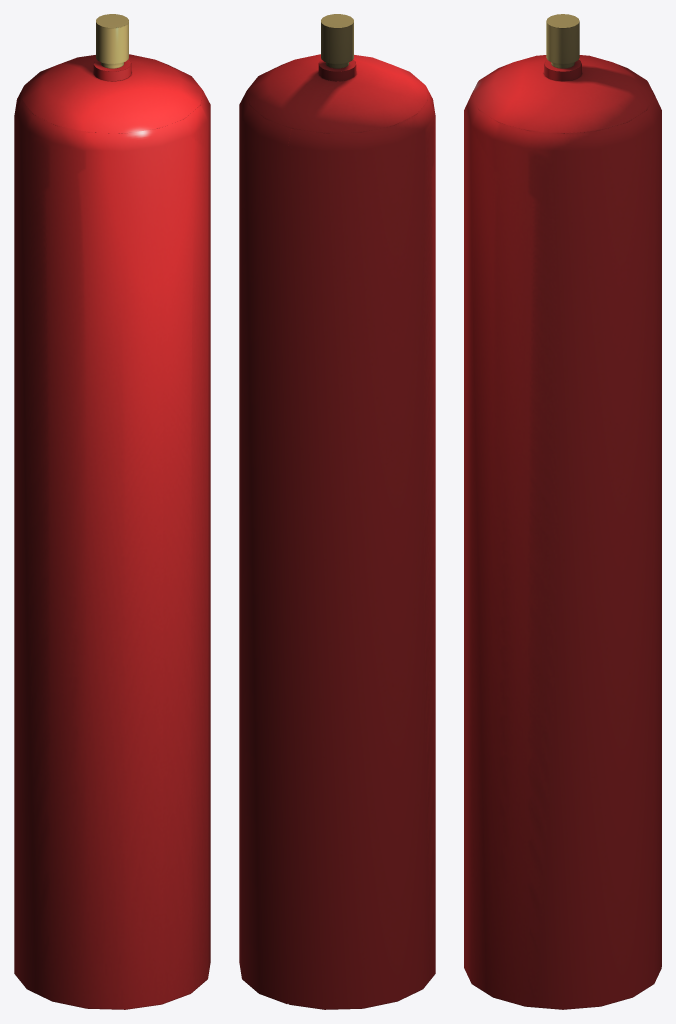
Rendered from gangping001.FBX.
3 views of the same model, side by side, from view 1: azimuth 30°, elevation 25°; view 2: azimuth 150°, elevation 25°; view 3: azimuth 270°, elevation 25° (orthographic).
Parts seen in each view (by area): view 1: gangping001; view 2: gangping001; view 3: gangping001.
Boxes of the visible parts, left/top/right/bottom form: gangping001: left=14, top=14, right=210, bottom=1009; gangping001: left=239, top=14, right=435, bottom=1009; gangping001: left=464, top=14, right=661, bottom=1009.
Size of the model in its own units: 28 by 148 by 28.
